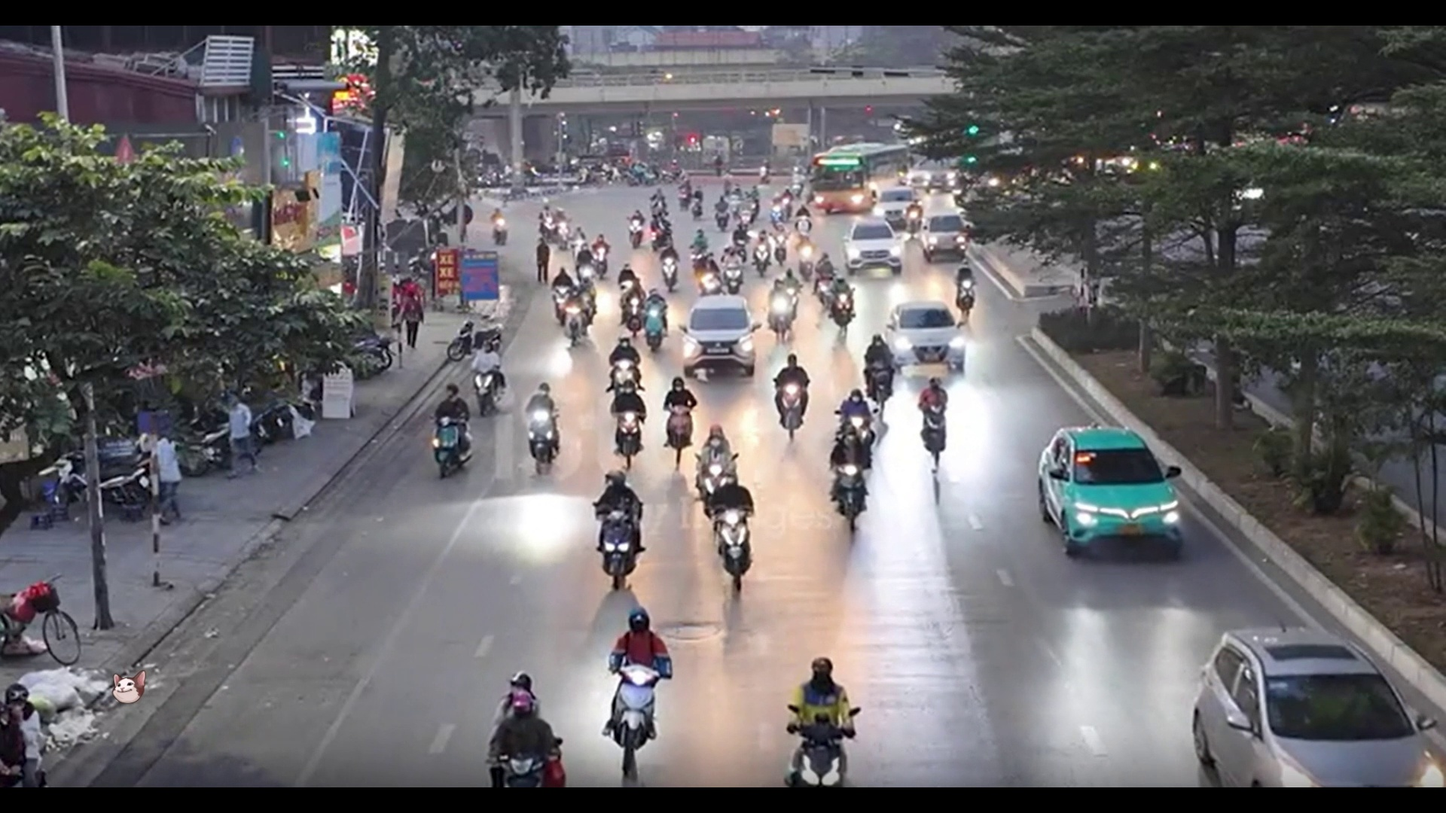car: (1191, 625, 1444, 786), (1038, 425, 1185, 558), (686, 296, 757, 377), (880, 302, 960, 372), (843, 220, 903, 278)
motorcycle: (0, 578, 83, 668), (783, 715, 852, 788), (712, 505, 755, 590), (524, 387, 560, 474), (431, 414, 474, 479), (829, 465, 871, 523)
